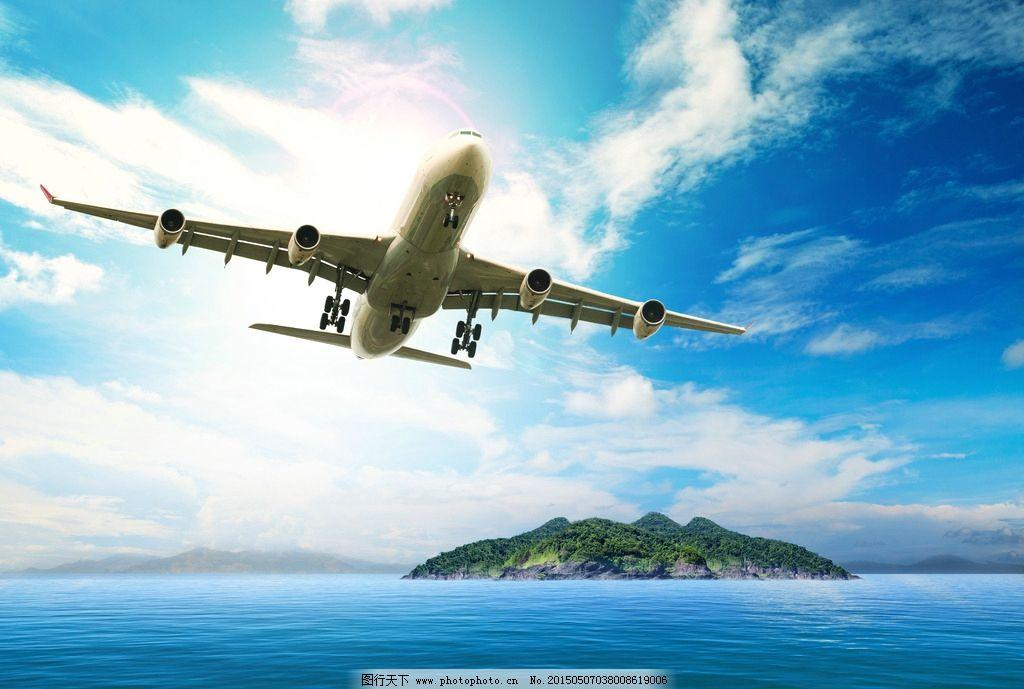airplane: (36, 122, 752, 360)
